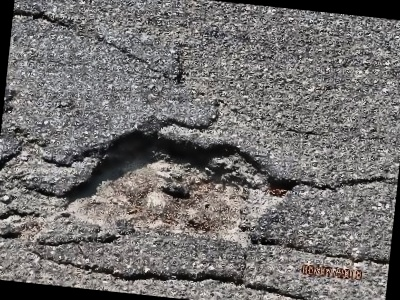pothole: (56, 116, 304, 251)
